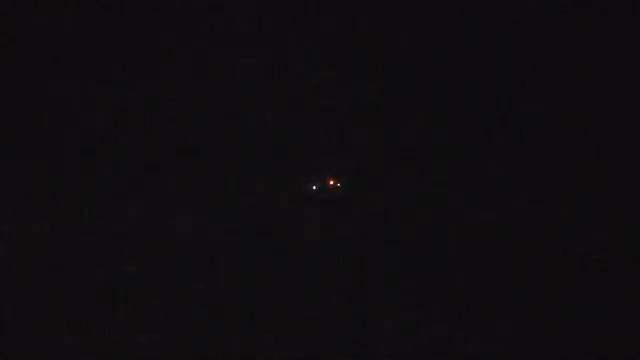Plane: (296, 172, 361, 196)
